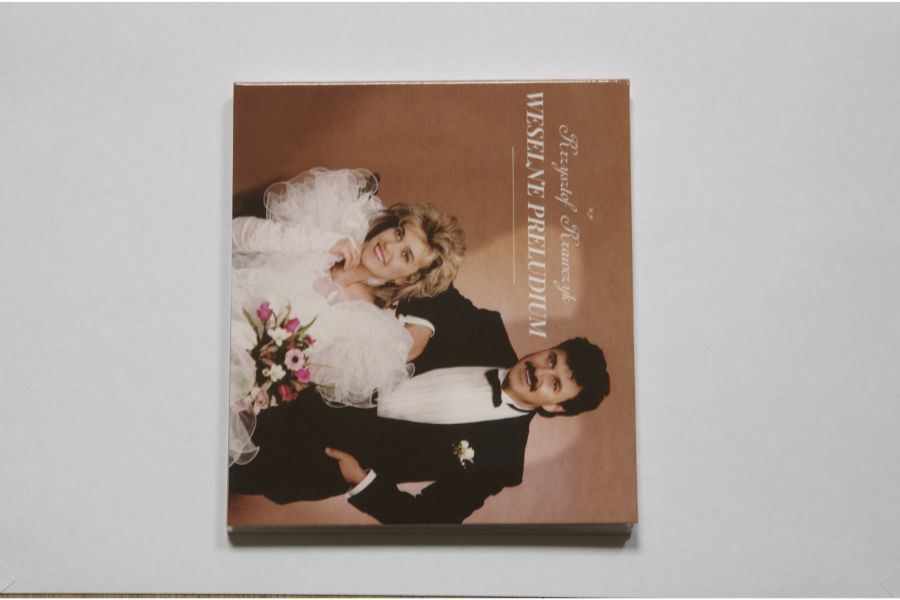album: (225, 80, 641, 529)
